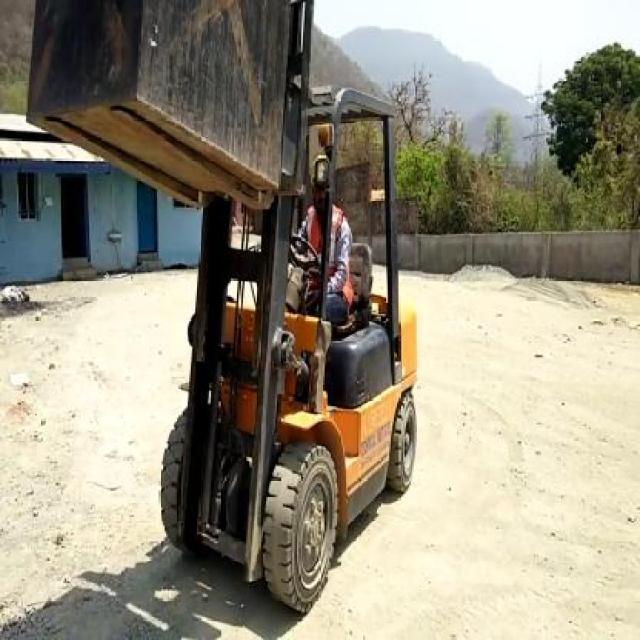forklift: (160, 80, 417, 616)
